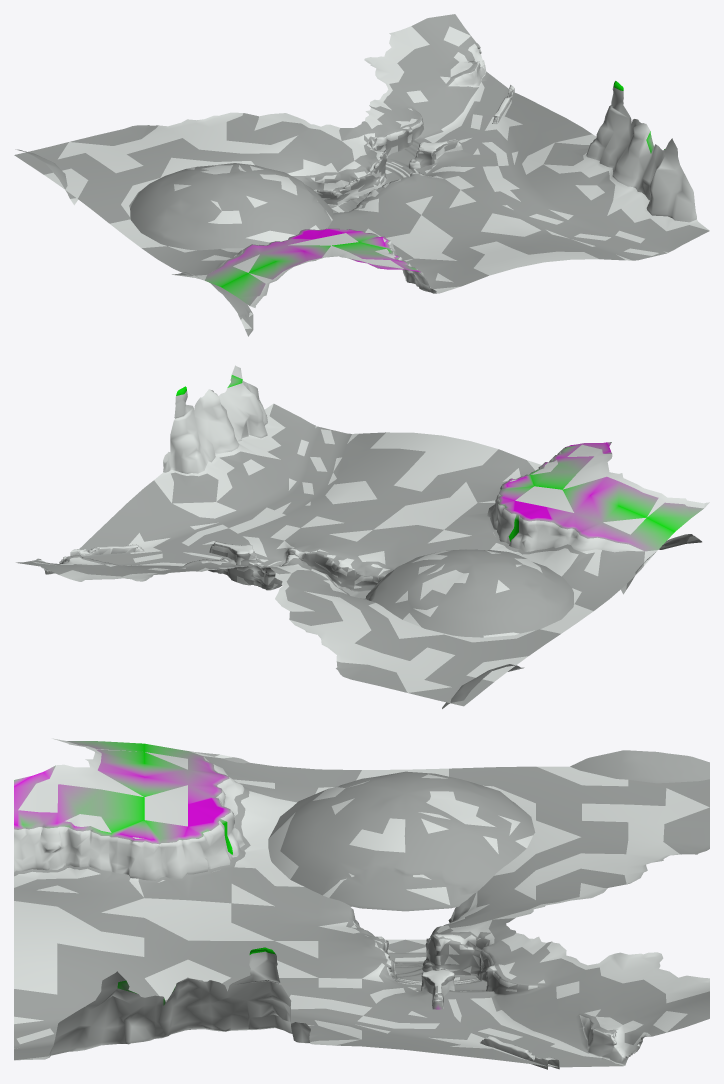
3 views of the same model, one above another, from view 1: azimuth 30°, elevation 25°; view 2: azimuth 150°, elevation 25°; view 3: azimuth 270°, elevation 25° (orthographic). The views are drawn at different scales.
Visible parts, largest first — view 1: G:\FFXIV-MapTools\exports\f1f1\bg\ffxiv\fst_f1\fld\f1f1\bgpl (×21); view 2: G:\FFXIV-MapTools\exports\f1f1\bg\ffxiv\fst_f1\fld\f1f1\bgpl (×18); view 3: G:\FFXIV-MapTools\exports\f1f1\bg\ffxiv\fst_f1\fld\f1f1\bgpl (×22).
Boxes of the visible parts, x1,y1,x2,y2 form: G:\FFXIV-MapTools\exports\f1f1\bg\ffxiv\fst_f1\fld\f1f1\bgpl (×21): (14,14,709,336); G:\FFXIV-MapTools\exports\f1f1\bg\ffxiv\fst_f1\fld\f1f1\bgpl (×18): (16,365,709,708); G:\FFXIV-MapTools\exports\f1f1\bg\ffxiv\fst_f1\fld\f1f1\bgpl (×22): (14,738,709,1069).
Bounding box in the file's own units: 128 × 32.29 × 128.
